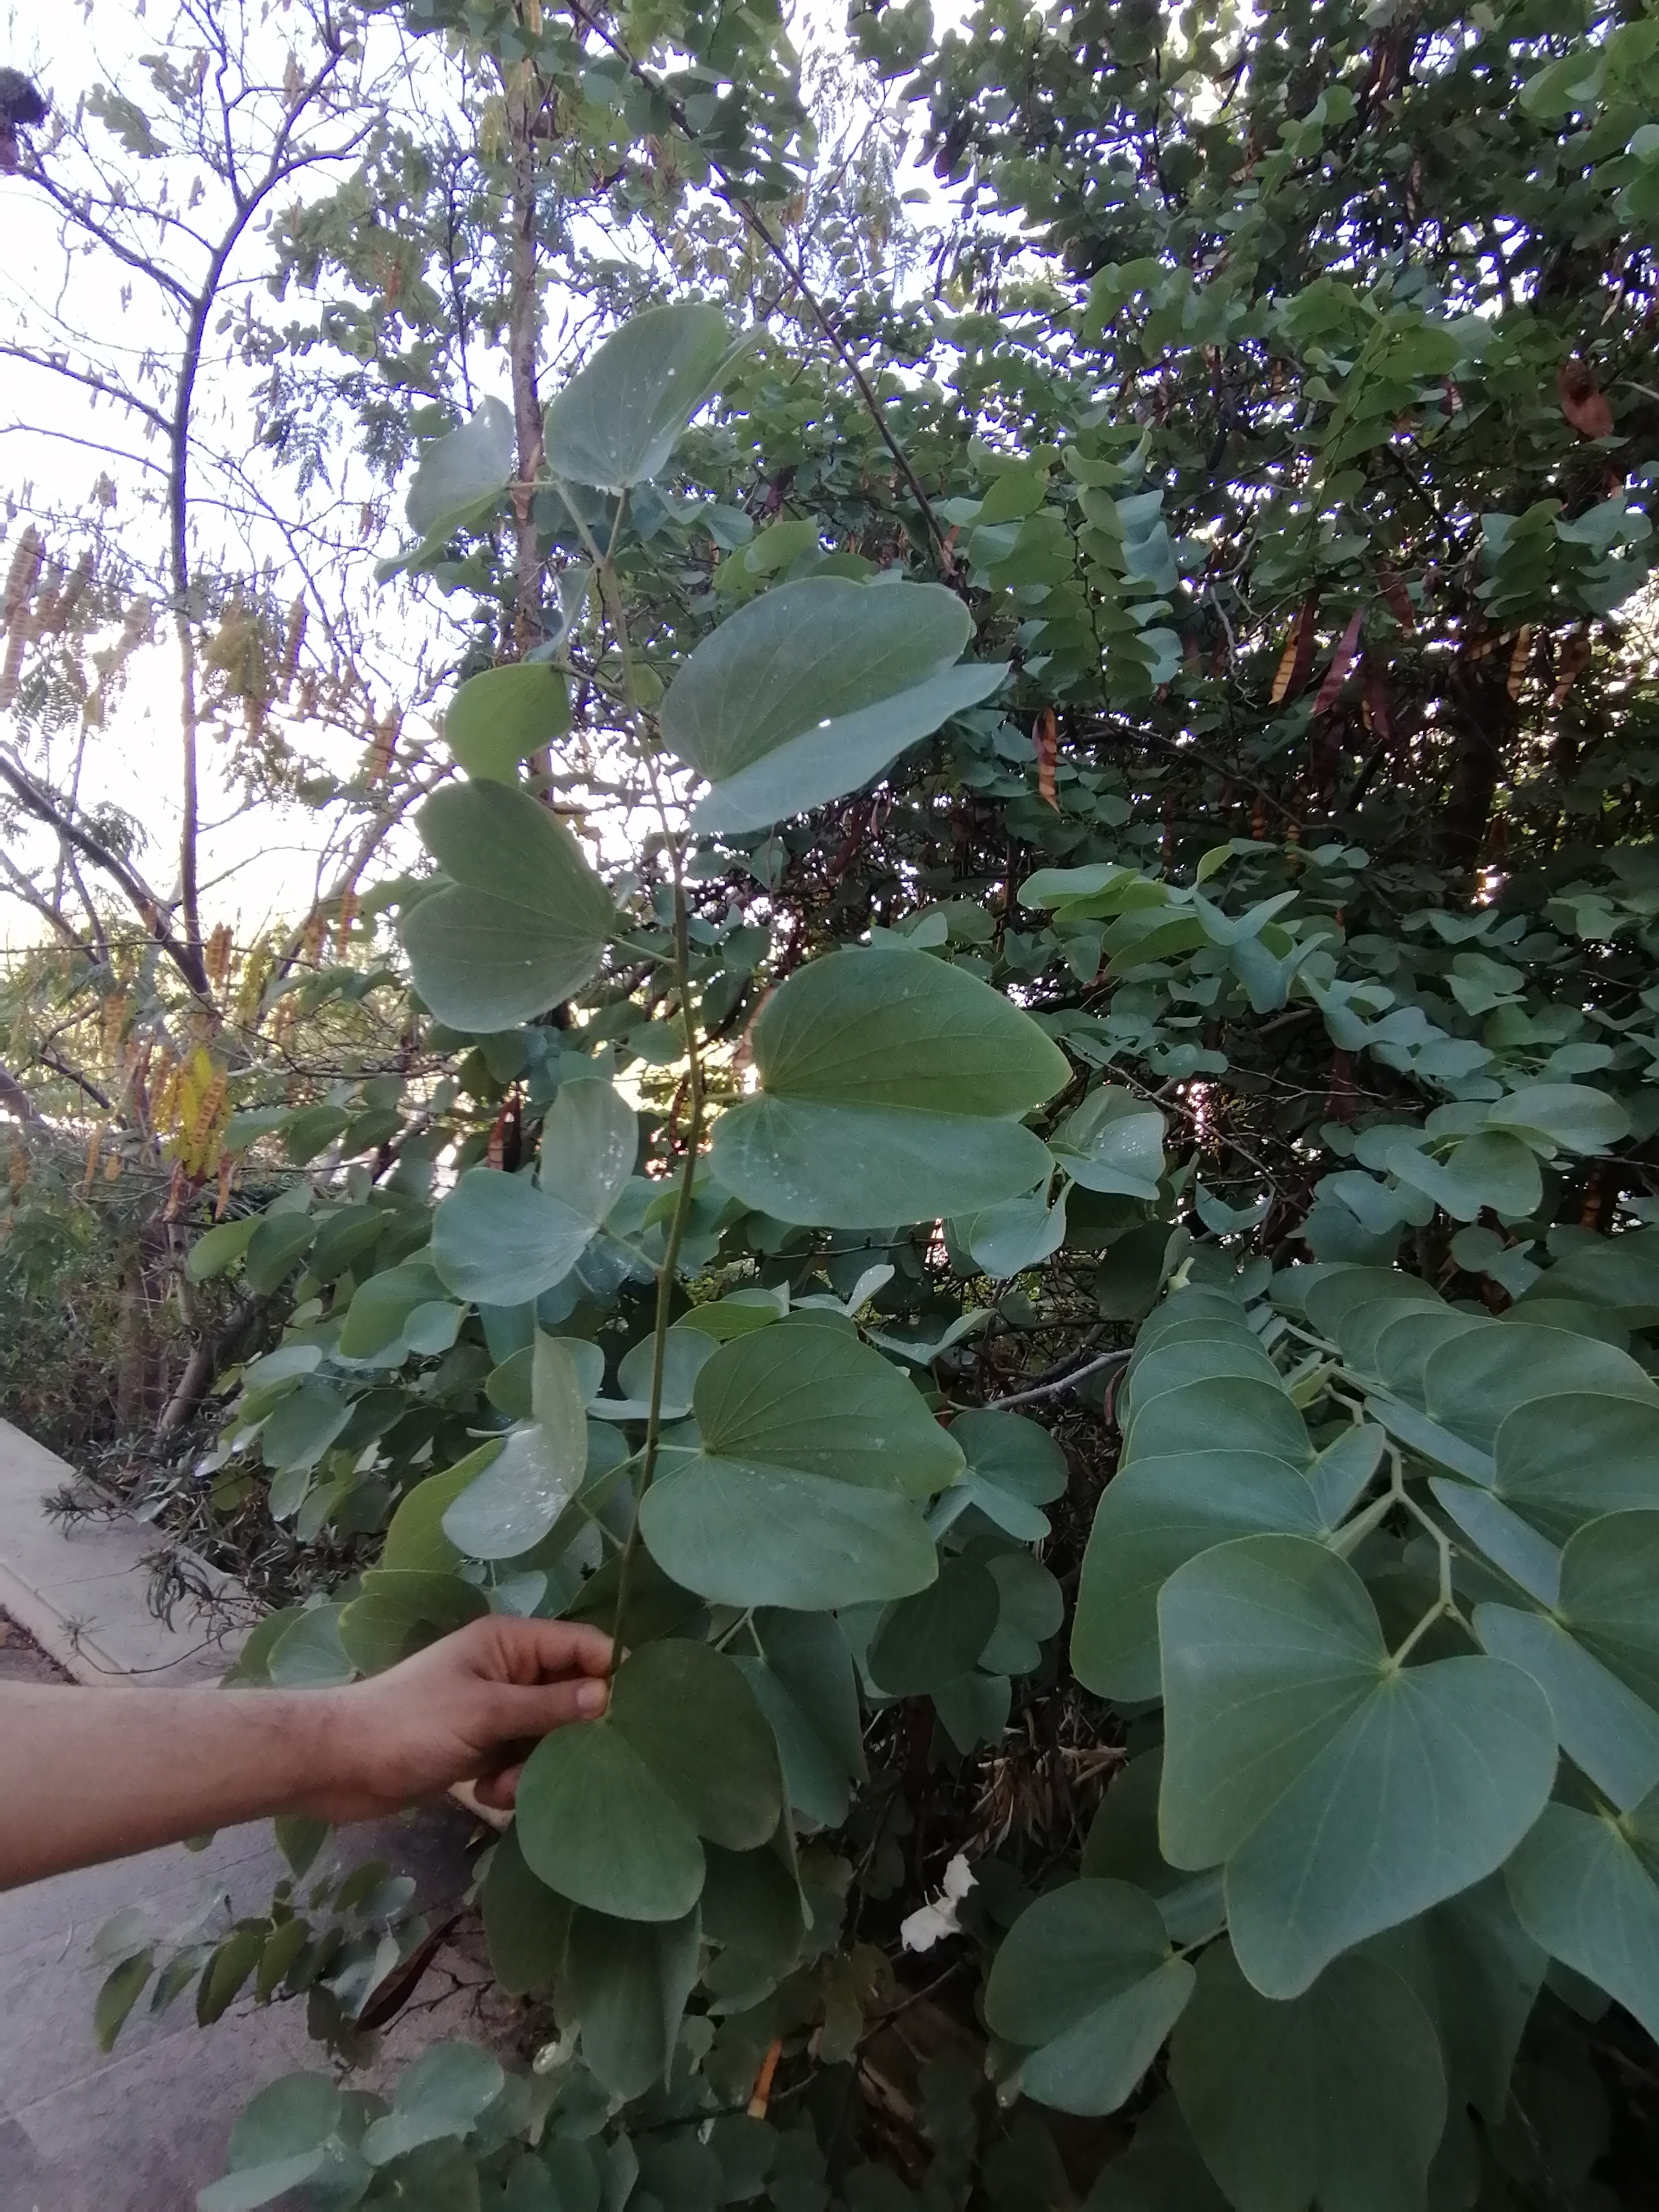healthy: (1115, 1597, 1582, 1996), (662, 564, 1000, 853), (647, 1320, 964, 1604), (739, 998, 1115, 1230), (516, 1620, 772, 1932), (396, 794, 615, 1031)
